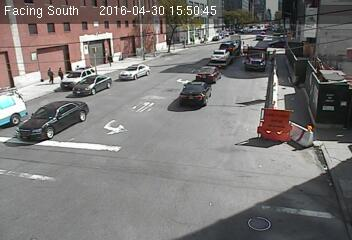neg: (138, 101, 165, 137), (88, 149, 113, 183), (248, 199, 269, 227), (51, 107, 72, 135), (263, 108, 282, 133), (201, 101, 219, 125), (254, 40, 269, 60)
pos: (41, 64, 56, 83), (56, 64, 68, 80)
